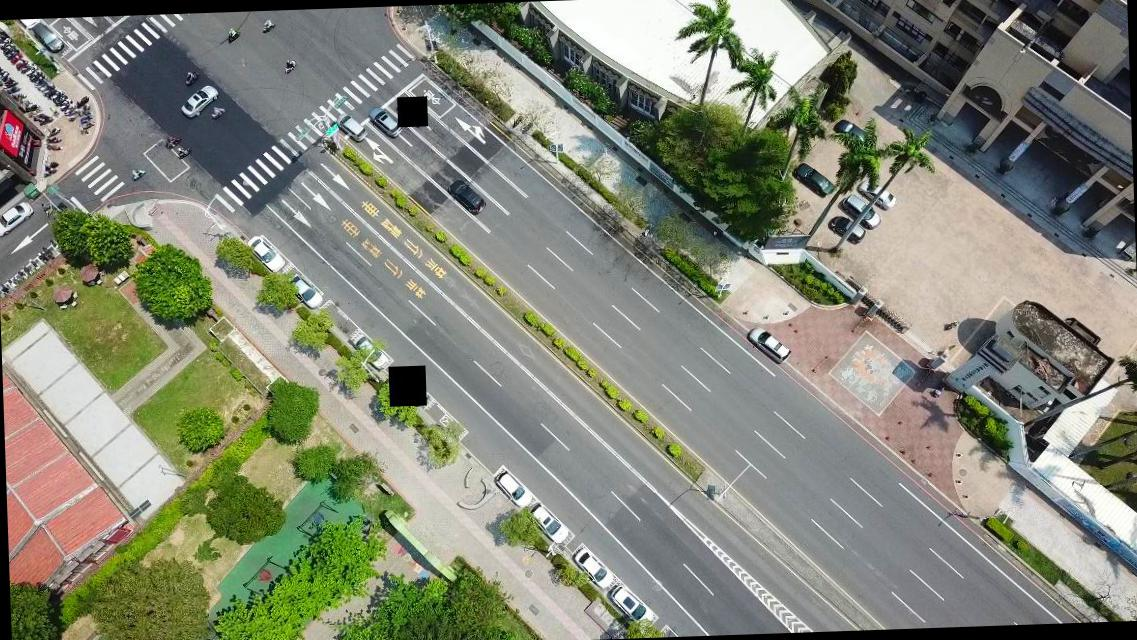vehicle: (527, 500, 570, 546), (746, 325, 792, 365), (573, 547, 614, 590), (610, 586, 652, 624), (792, 162, 836, 198), (840, 192, 880, 230), (447, 179, 486, 215), (247, 236, 285, 272), (496, 470, 532, 508), (351, 332, 388, 368), (28, 20, 64, 56), (180, 84, 218, 118), (828, 214, 866, 247), (858, 178, 895, 210), (290, 272, 322, 308), (0, 201, 32, 237), (832, 118, 870, 146), (368, 105, 400, 138), (336, 113, 367, 143)
